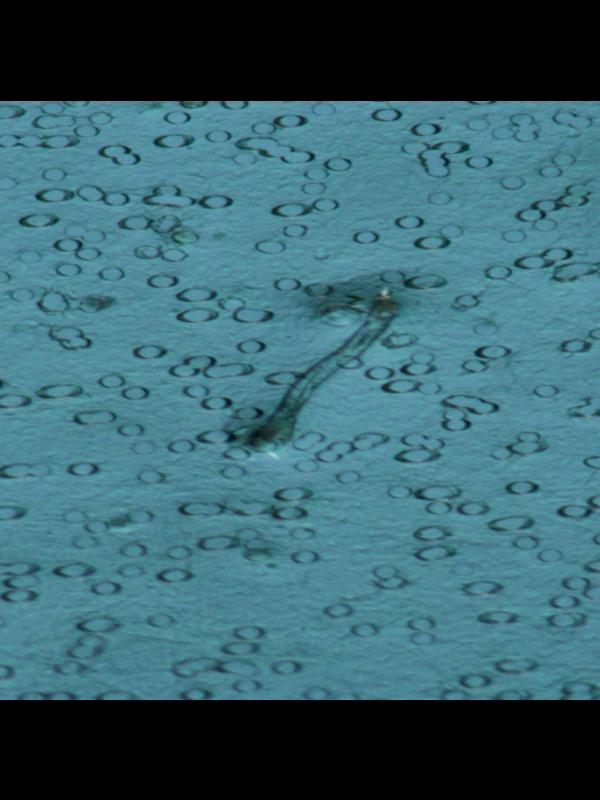microplastic: (0, 101, 600, 698), (231, 283, 405, 453)
